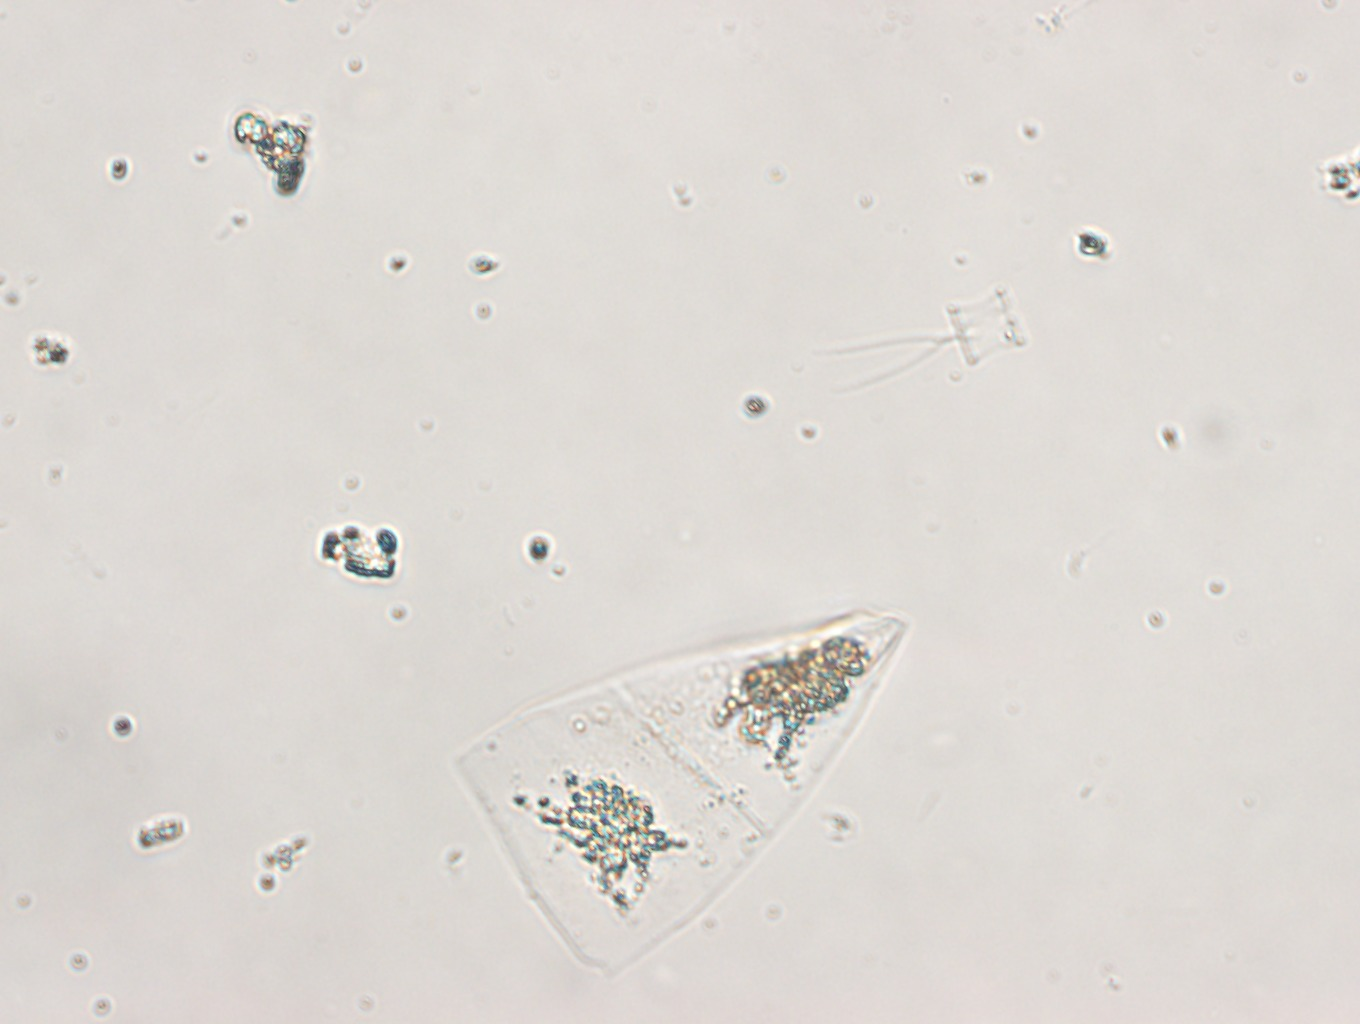chaetoceros: (816, 286, 1030, 403)
helicotheca: (452, 603, 908, 975)
